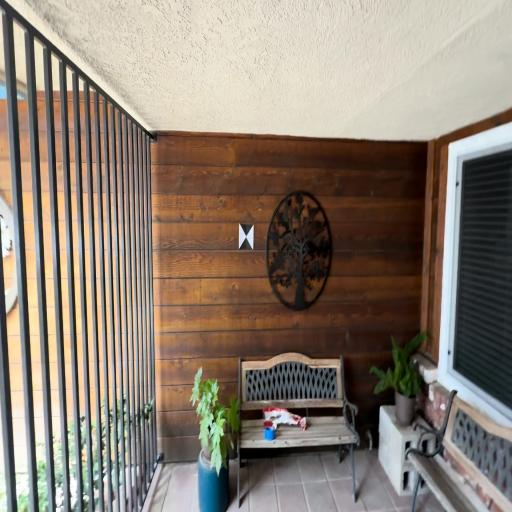target: (240, 224, 253, 249)
